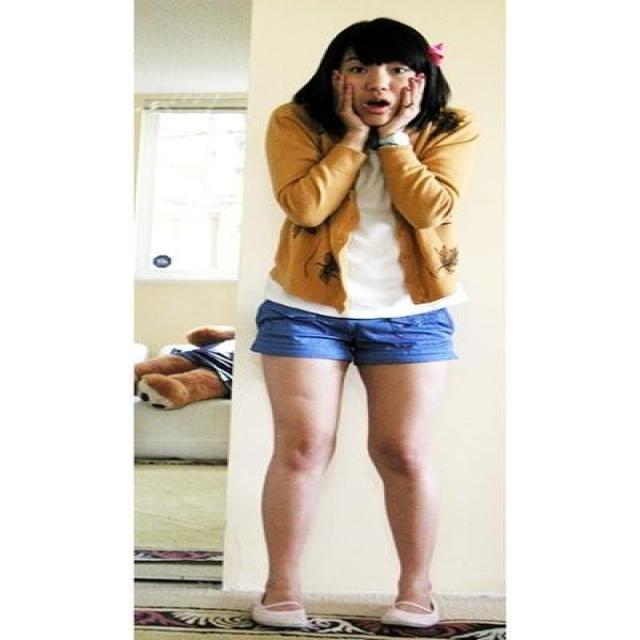jacket: (266, 124, 459, 314)
shirt: (278, 166, 440, 318)
shoe: (250, 586, 432, 626)
shorts: (251, 300, 453, 368)
